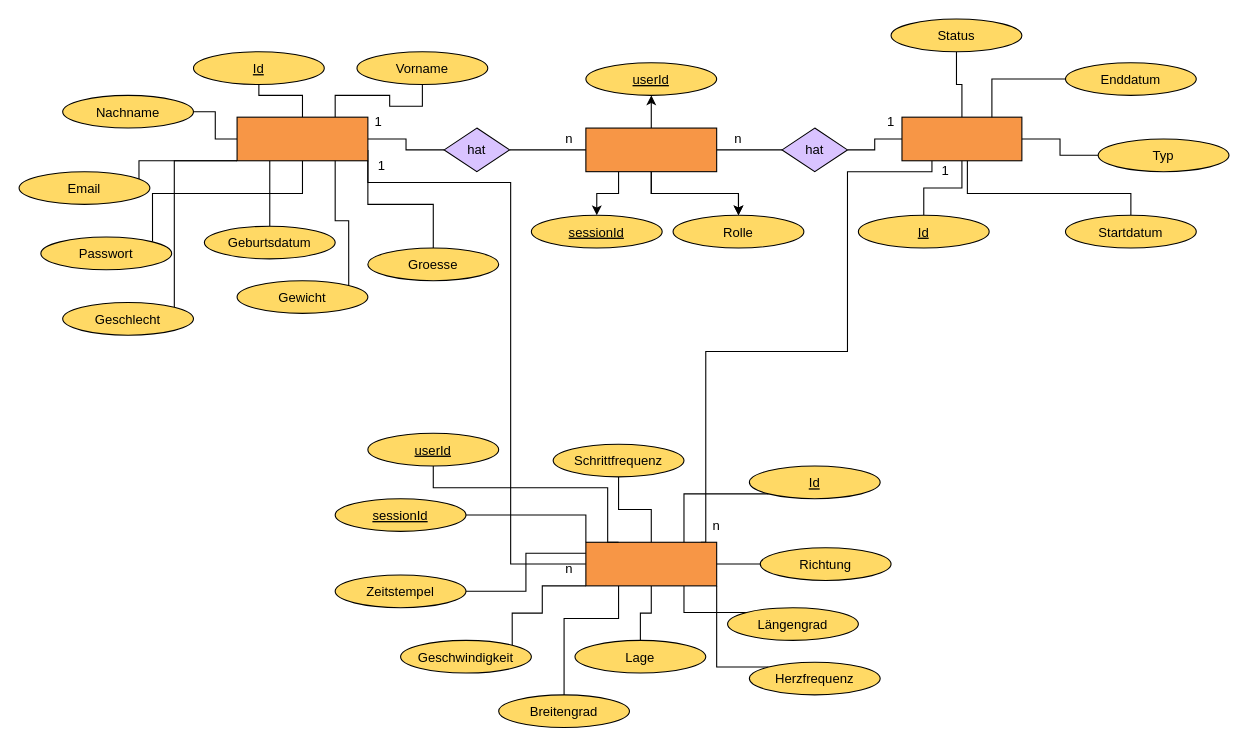
Some shapes in this 1248 by 747 pixel diagram are drawn without their labels. The centre of each missing label's shape, as x and y in pixels:
Messwerte: the point at 651,563
Session: the point at 961,138
User: the point at 302,138
User_Session: the point at 651,149
